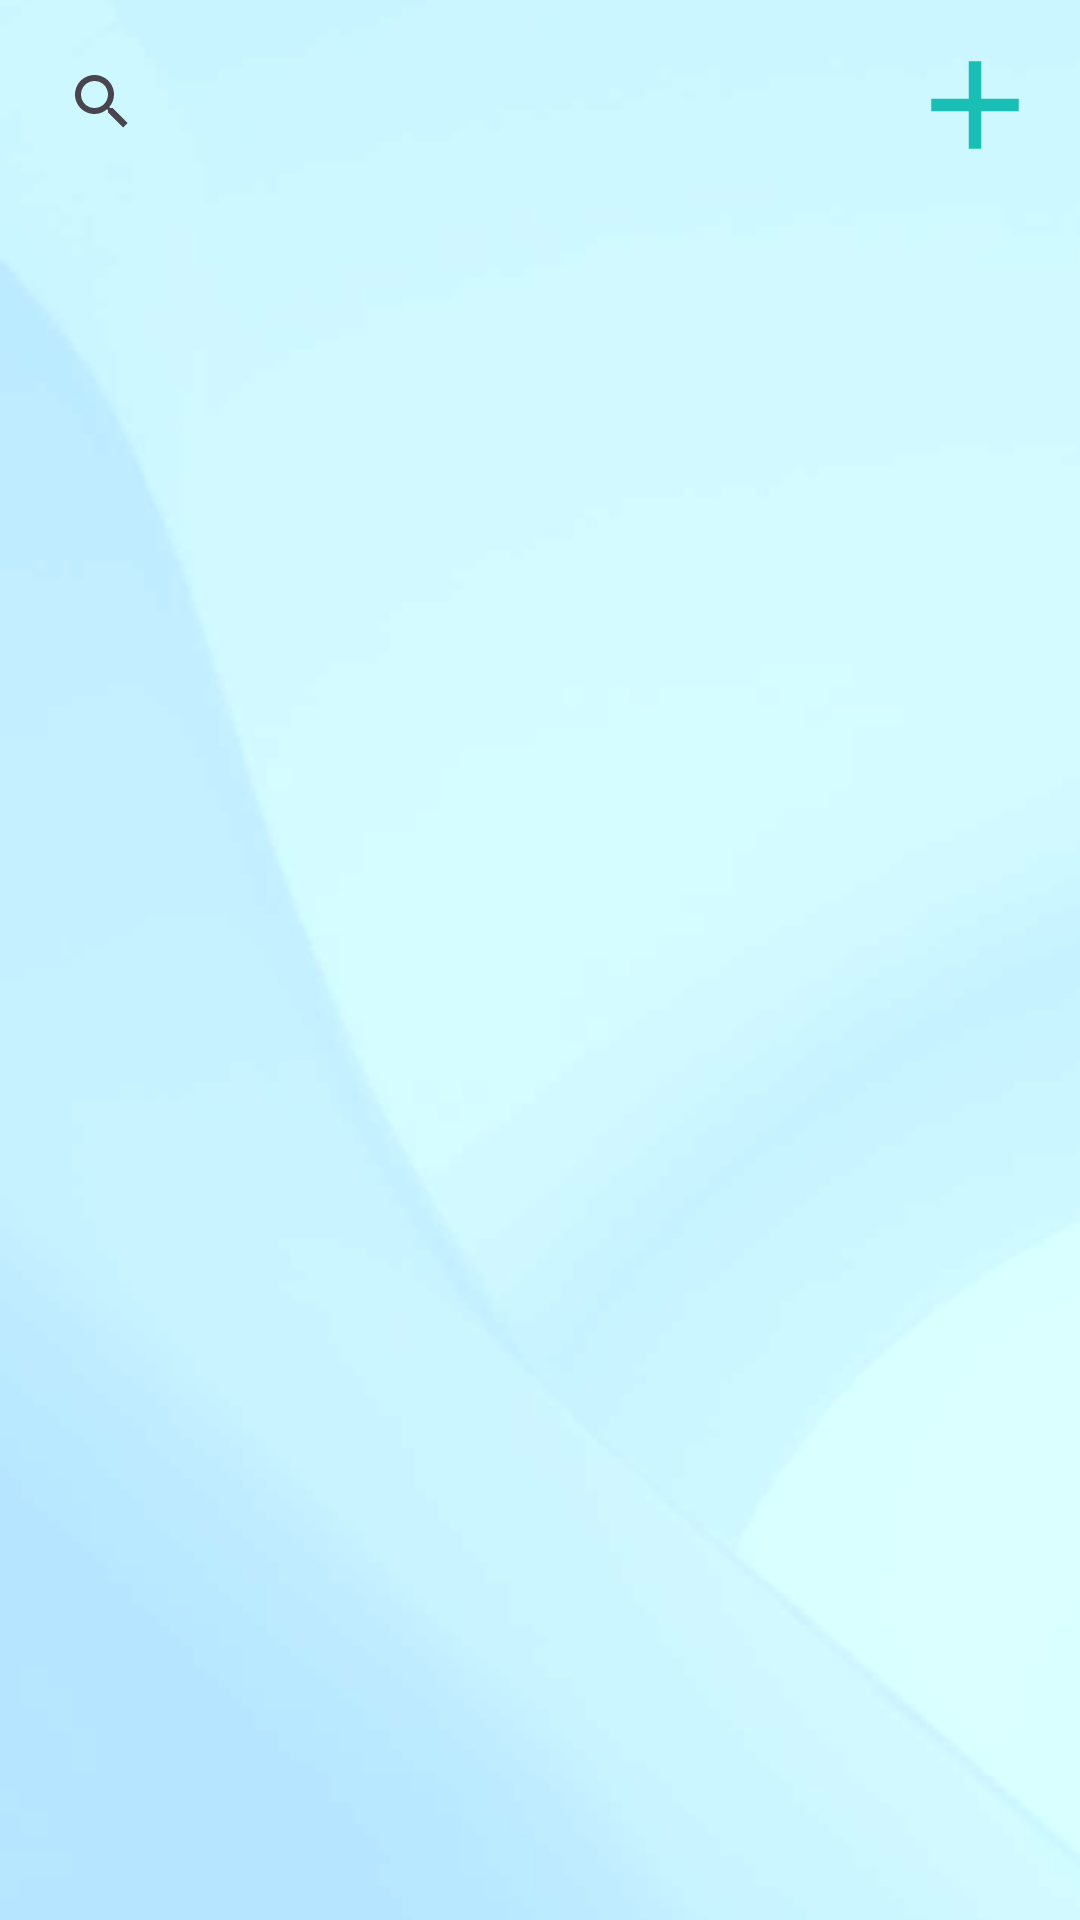

Locate icon controls on the screen. Image size 1080 × 1920, boxes as box(x1, y1, x2, y2).
add: box(931, 61, 1019, 149)
